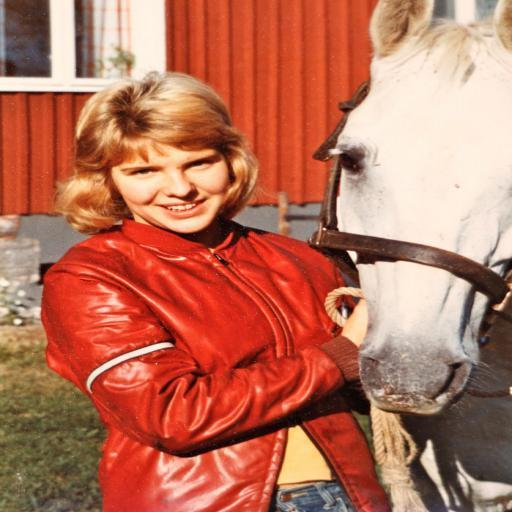horse: (324, 0, 512, 512)
